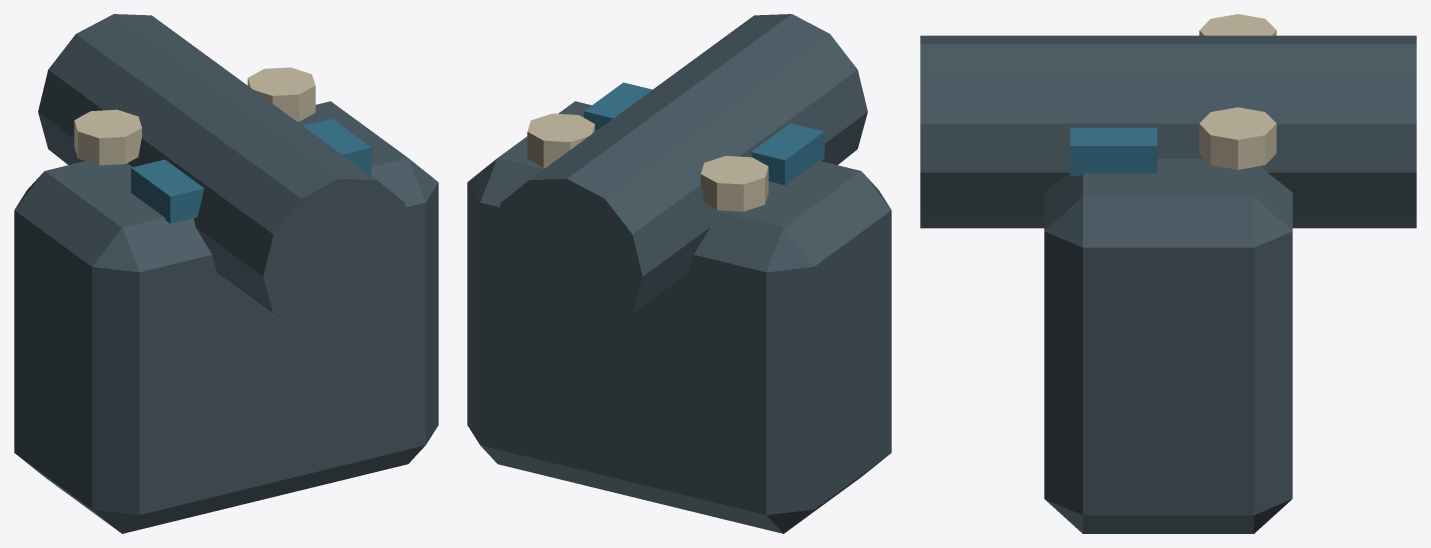
The model's file is set_padlock.glb.
3 renders of one model, left to right at view 1: azimuth 30°, elevation 25°; view 2: azimuth 150°, elevation 25°; view 3: azimuth 270°, elevation 25°, orthographic. The views are drawn at different scales.
Visible parts, largest first — view 1: set_padlock; view 2: set_padlock; view 3: set_padlock.
Boxes of the visible parts, left/top/right/bottom form: set_padlock: left=14, top=14, right=438, bottom=533; set_padlock: left=467, top=14, right=891, bottom=533; set_padlock: left=920, top=14, right=1416, bottom=533.
Bounding box in the file's own units: 0.16 × 0.165 × 0.18.
